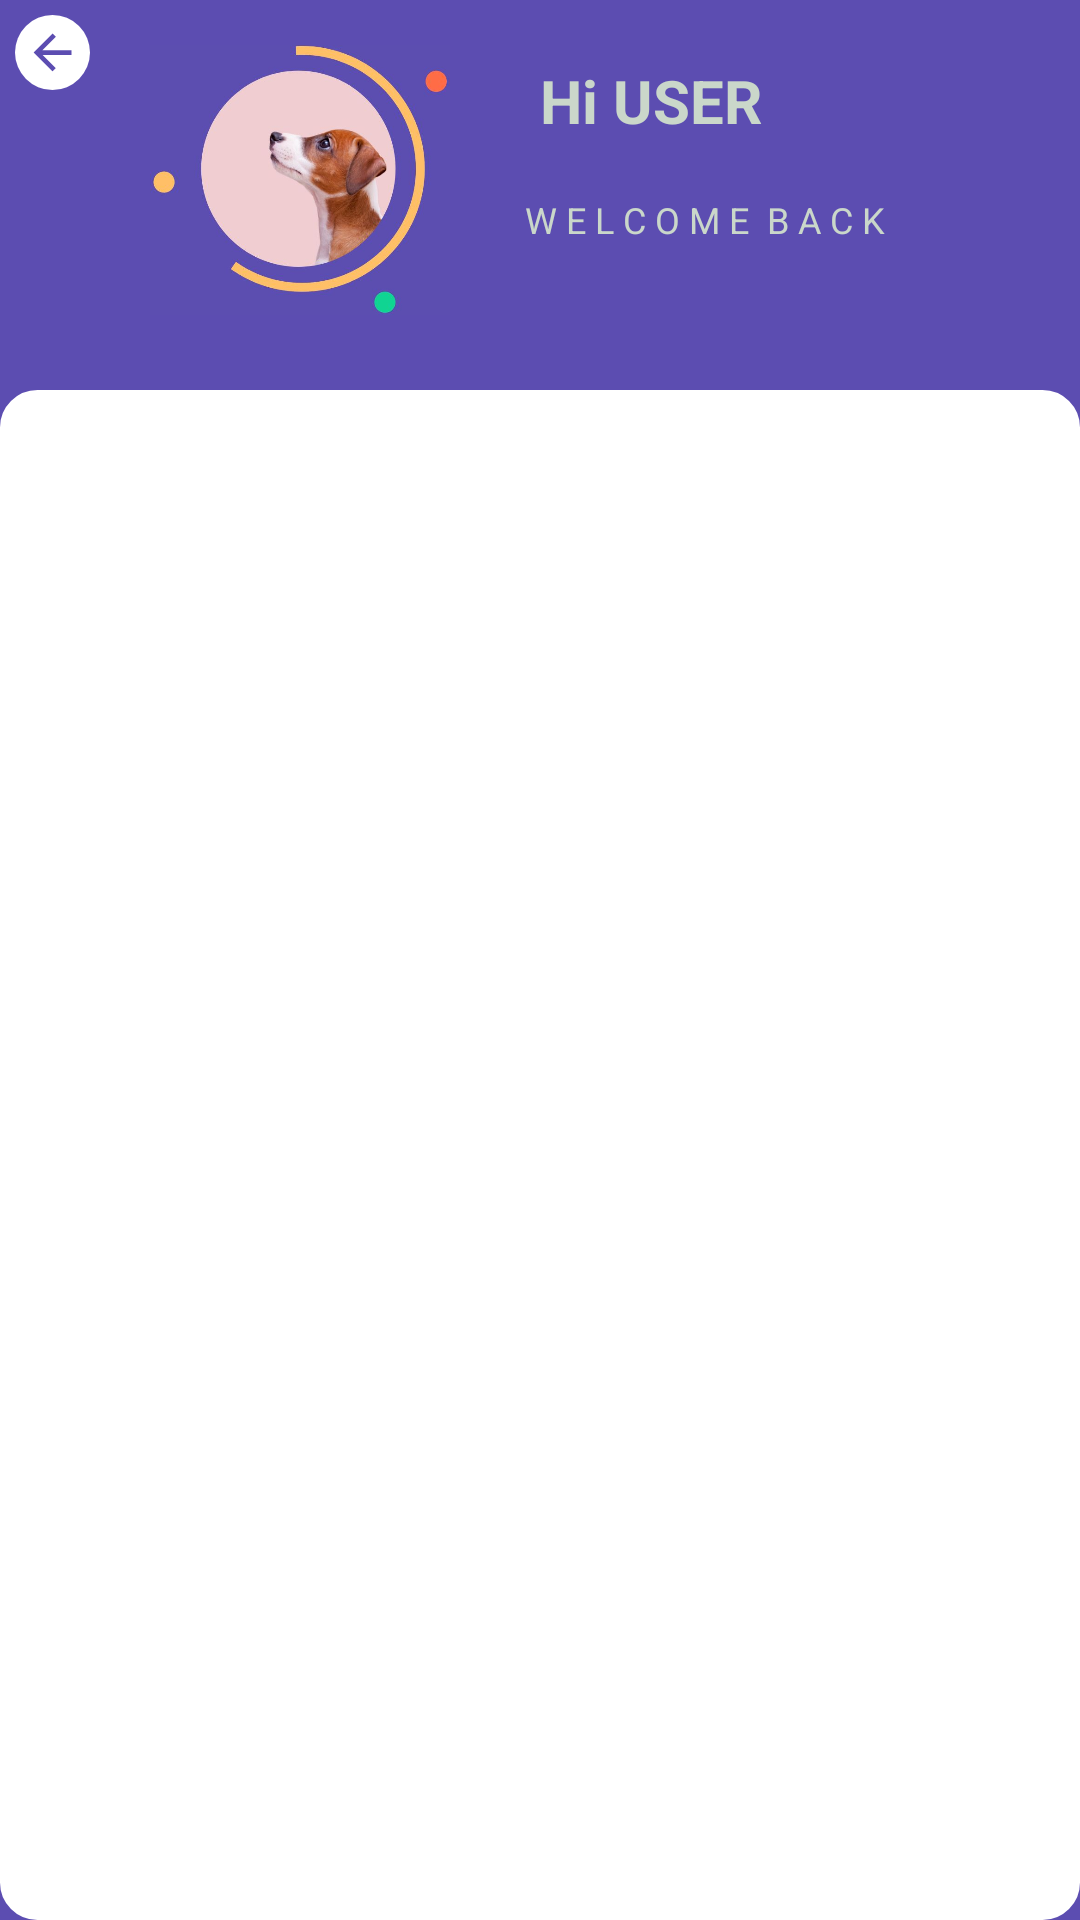

Icon bounding boxes for this 1080 x 1920 phone screenshot, format (x1, y1, x2, y2):
back: (15, 15, 90, 90)
